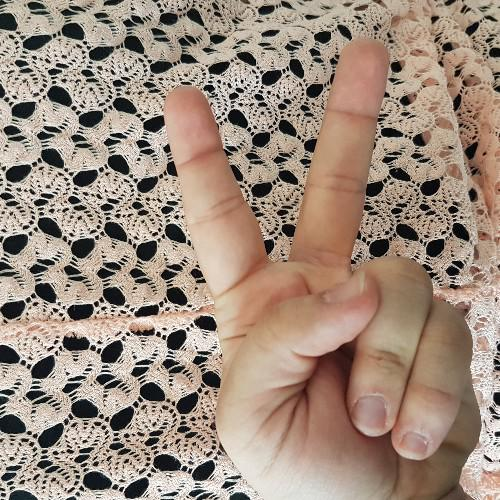scissors: (152, 32, 484, 493)
